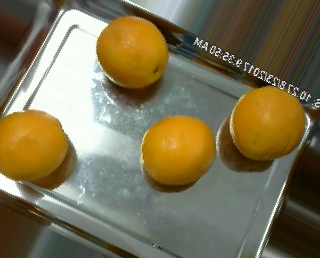Orange: (229, 84, 307, 159), (96, 14, 170, 88), (141, 113, 216, 184), (0, 109, 69, 180)
